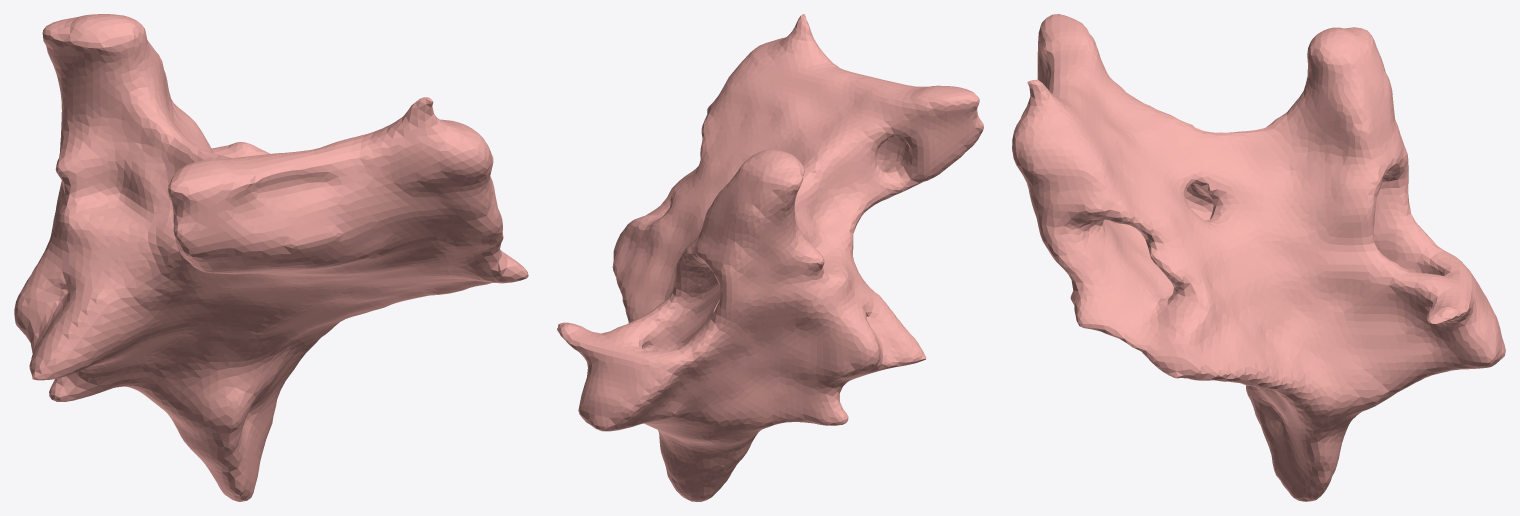
Rendered from Darch3.glb.
3 renders of one model, left to right at view 1: azimuth 30°, elevation 25°; view 2: azimuth 150°, elevation 25°; view 3: azimuth 270°, elevation 25°, orthographic. The views are drawn at different scales.
Parts seen in each view (by area): view 1: Darch3; view 2: Darch3; view 3: Darch3.
Boxes of the visible parts, <box> form: Darch3: <box>14,14,528,501</box>; Darch3: <box>557,14,983,501</box>; Darch3: <box>1012,14,1505,501</box>.
Bounding box in the file's own units: 0.00393 × 0.00442 × 0.00461.
